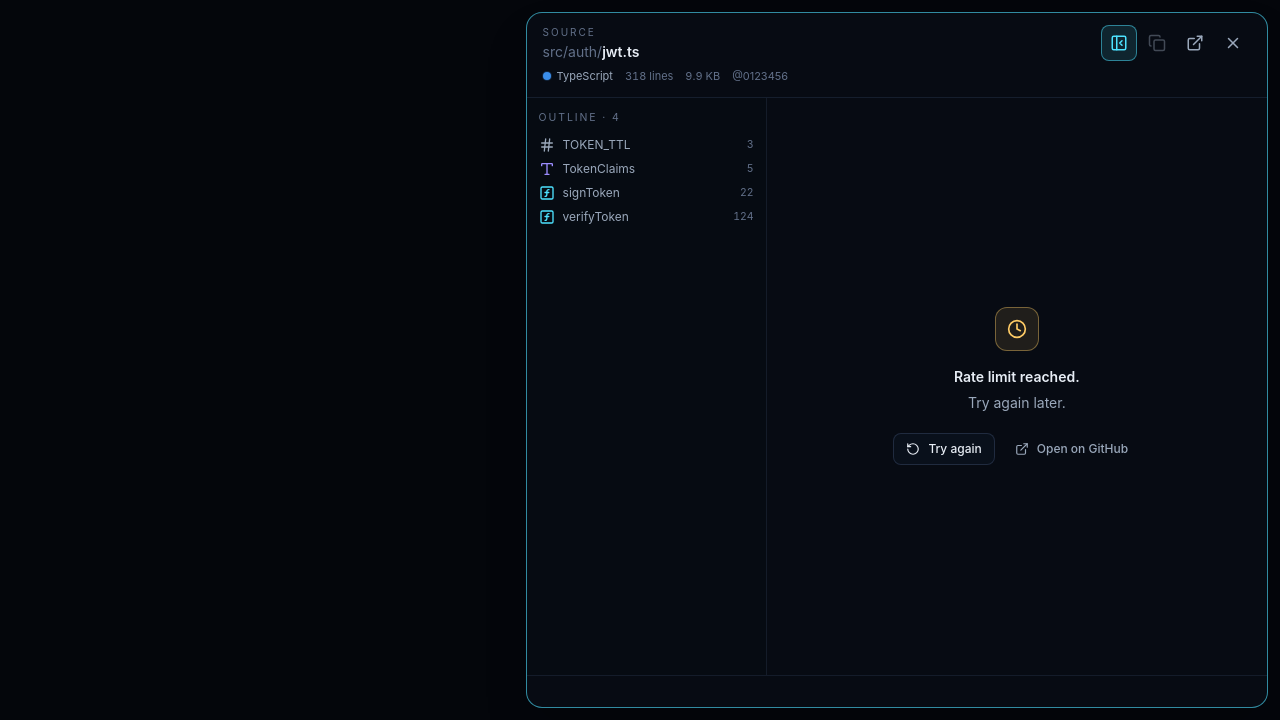
Scenario: CodeViewer › offers a retry for rate limits and recovers
Expected: the message shows "Rate limit reached.", [954,368,1080,385]
What coordinates should you click on to do the following:
click the button "Try again"
I would click on:
 (944, 449)
Its box is [893,433,995,465].
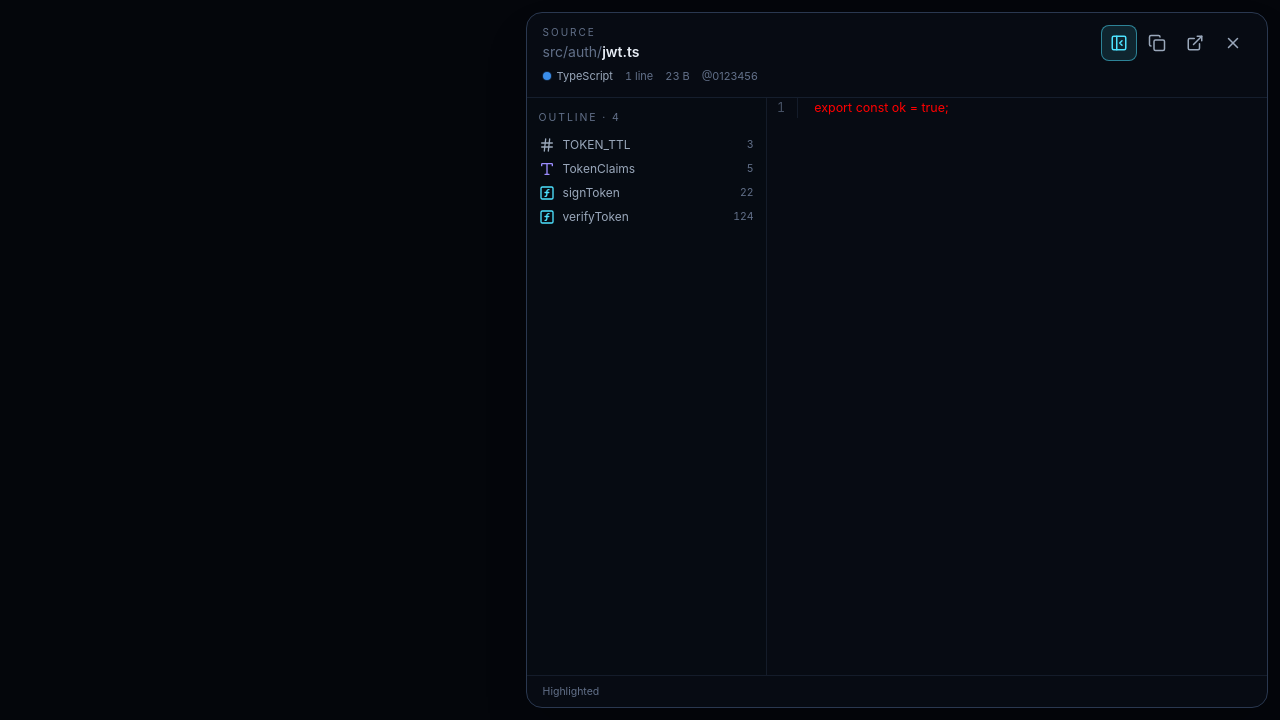
Expected: the element named "Source code" shows "export const ok = true;", [814,100,949,114]
